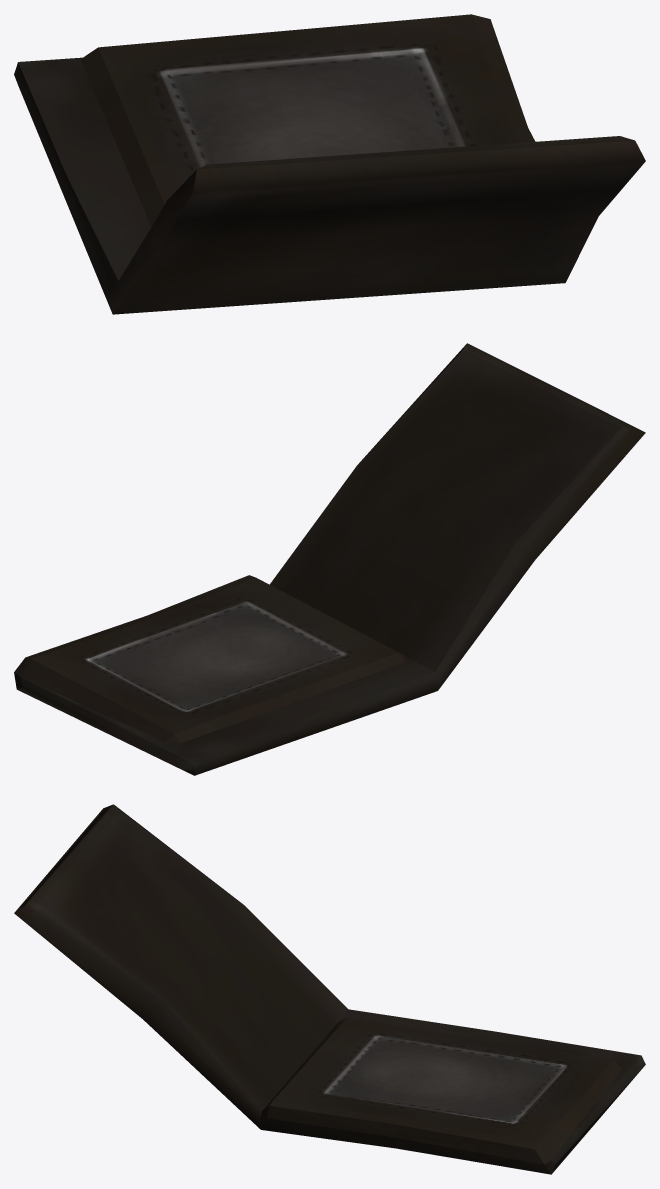
The model's file is Wallet.FBX.
The picture shows the model from 3 angles, top to bottom: view 1: azimuth 30°, elevation 25°; view 2: azimuth 150°, elevation 25°; view 3: azimuth 270°, elevation 25°; orthographic projection. The views are drawn at different scales.
Parts seen in each view (by area): view 1: Box119; view 2: Box119; view 3: Box119.
Part boxes in pixels (x1=…): Box119: x1=14, y1=14, x2=645, y2=314; Box119: x1=14, y1=343, x2=645, y2=775; Box119: x1=14, y1=804, x2=645, y2=1174.
Size of the model in its own units: 44.64 by 20.46 by 62.5.
1 material, 1 textured.
